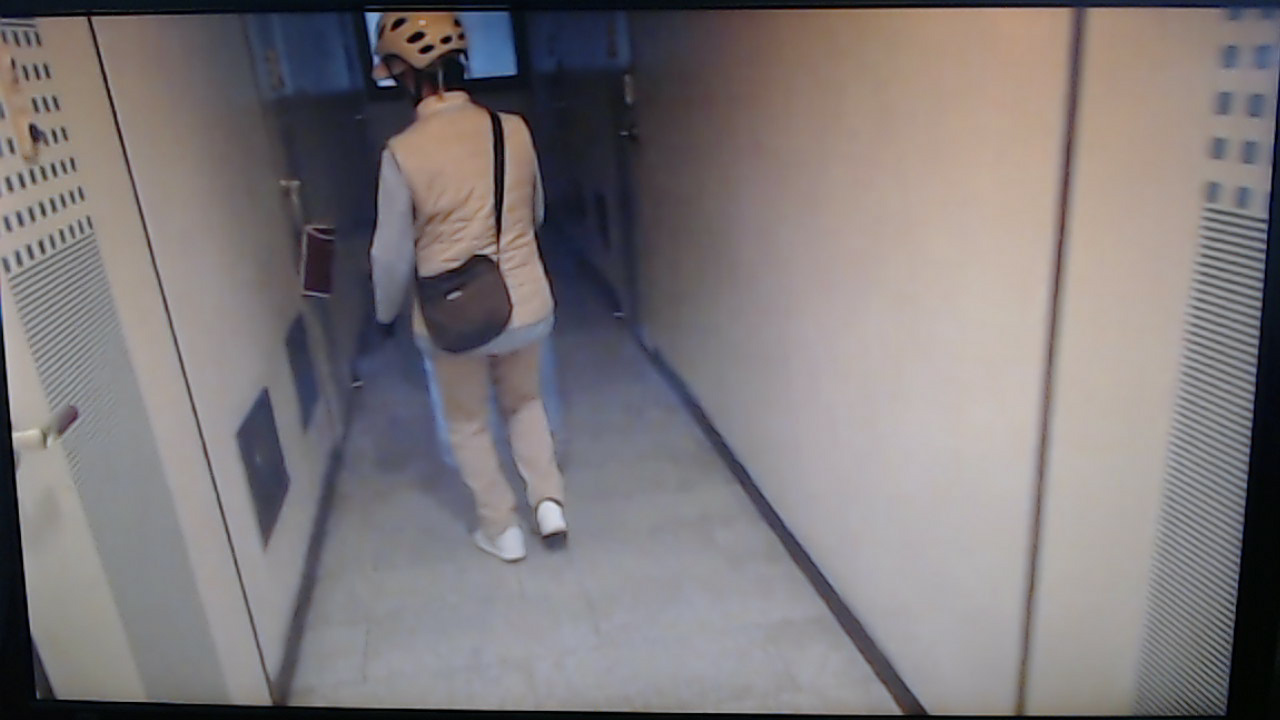Yakurut: (350, 15, 592, 582)
